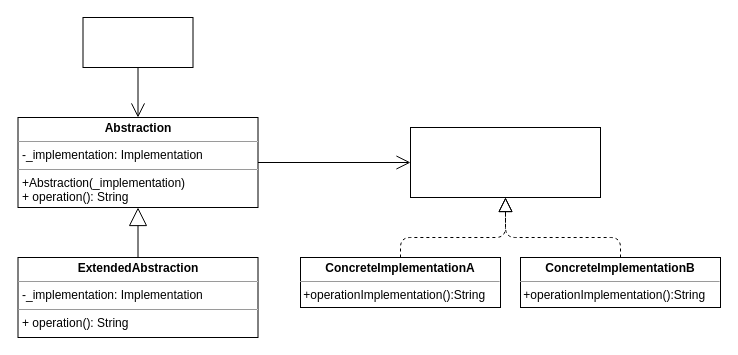
Image size: 738x355. Some labels were removed from this diagram. Here are the shapes that lost their labels. From the top down, the box of each, then its label:
(82, 16, 193, 68): Client
(410, 126, 600, 198): <<Interface>> Implementation +operationImplementation():String
